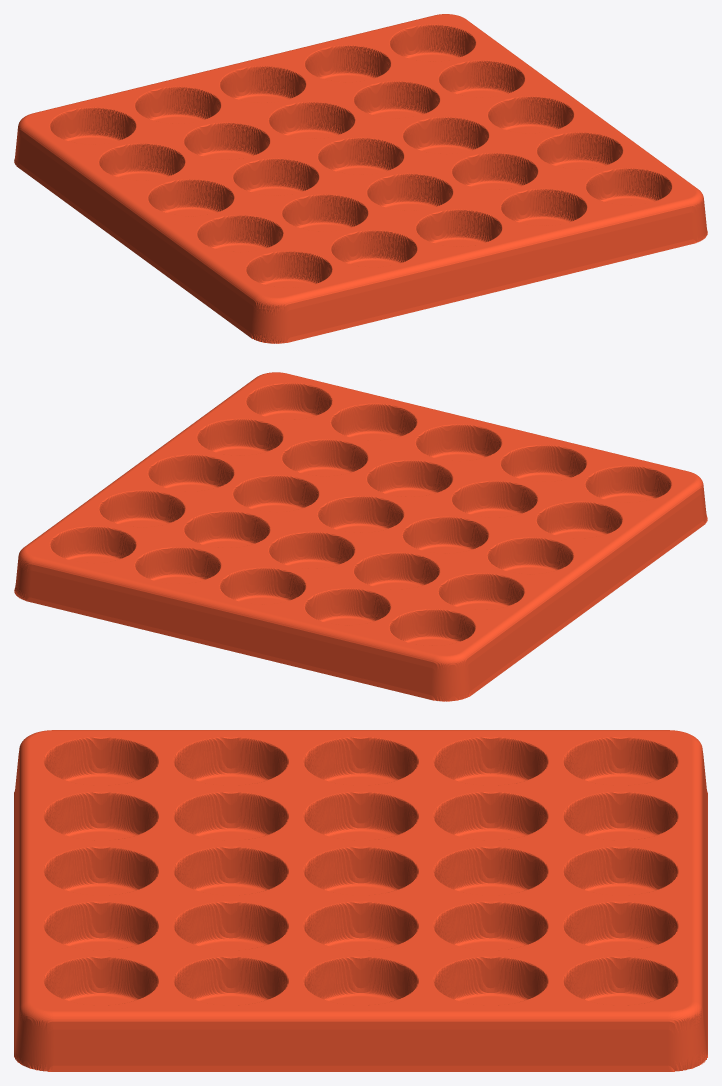
File: mold.glb
The picture shows the model from 3 angles, top to bottom: view 1: azimuth 30°, elevation 25°; view 2: azimuth 150°, elevation 25°; view 3: azimuth 270°, elevation 25°; orthographic projection. The views are drawn at different scales.
Visible parts, largest first — view 1: geometry_0; view 2: geometry_0; view 3: geometry_0.
Boxes of the visible parts, box(x1,y1,x2,y2) form: geometry_0: box(14, 14, 707, 343); geometry_0: box(14, 372, 707, 701); geometry_0: box(14, 730, 707, 1071).
Bounding box in the file's own units: 0.1584 × 0.0136 × 0.1584.
